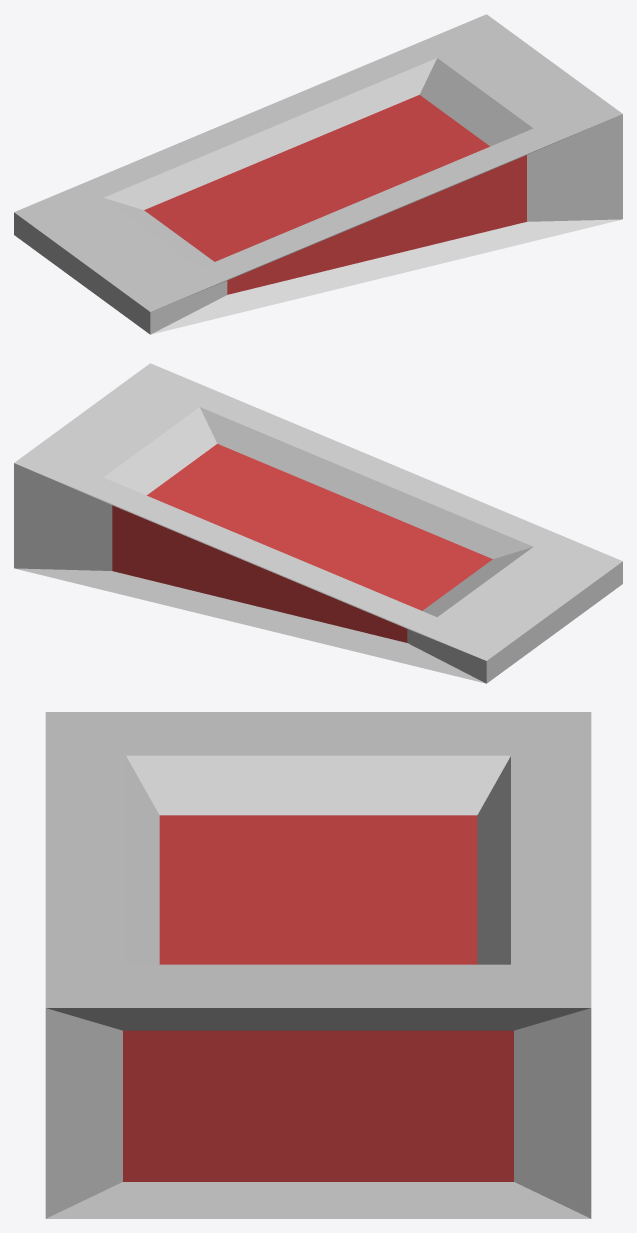
The model's file is LaunchPad.fbx.
3 renders of one model, top to bottom at view 1: azimuth 30°, elevation 25°; view 2: azimuth 150°, elevation 25°; view 3: azimuth 270°, elevation 25°, orthographic. The views are drawn at different scales.
Parts seen in each view (by area): view 1: Cube; view 2: Cube; view 3: Cube.
Boxes of the visible parts, bbox=[...] form: Cube: bbox=[14, 14, 622, 334]; Cube: bbox=[14, 363, 622, 683]; Cube: bbox=[45, 712, 591, 1218].
Bounding box in the file's own units: 824 × 176 × 412.
